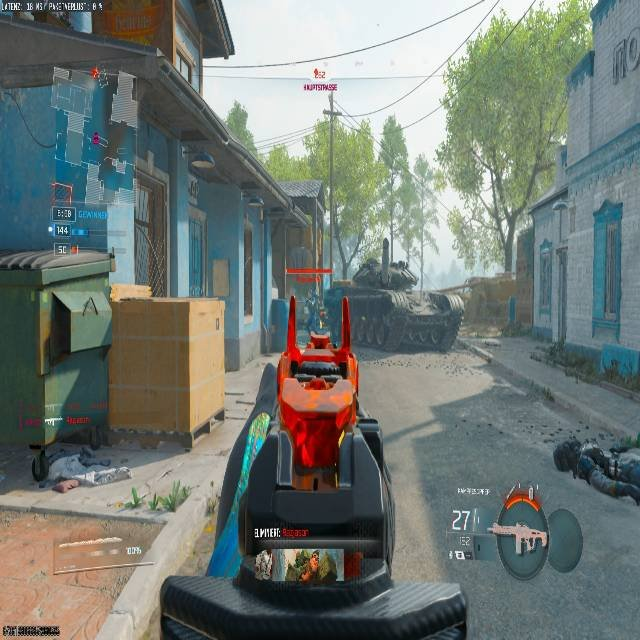head: (552, 439, 581, 471)
player: (28, 437, 132, 494)
